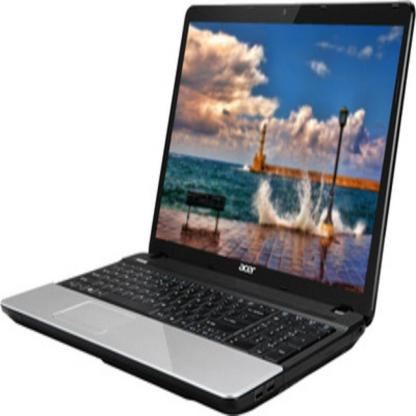board: (28, 0, 403, 416)
